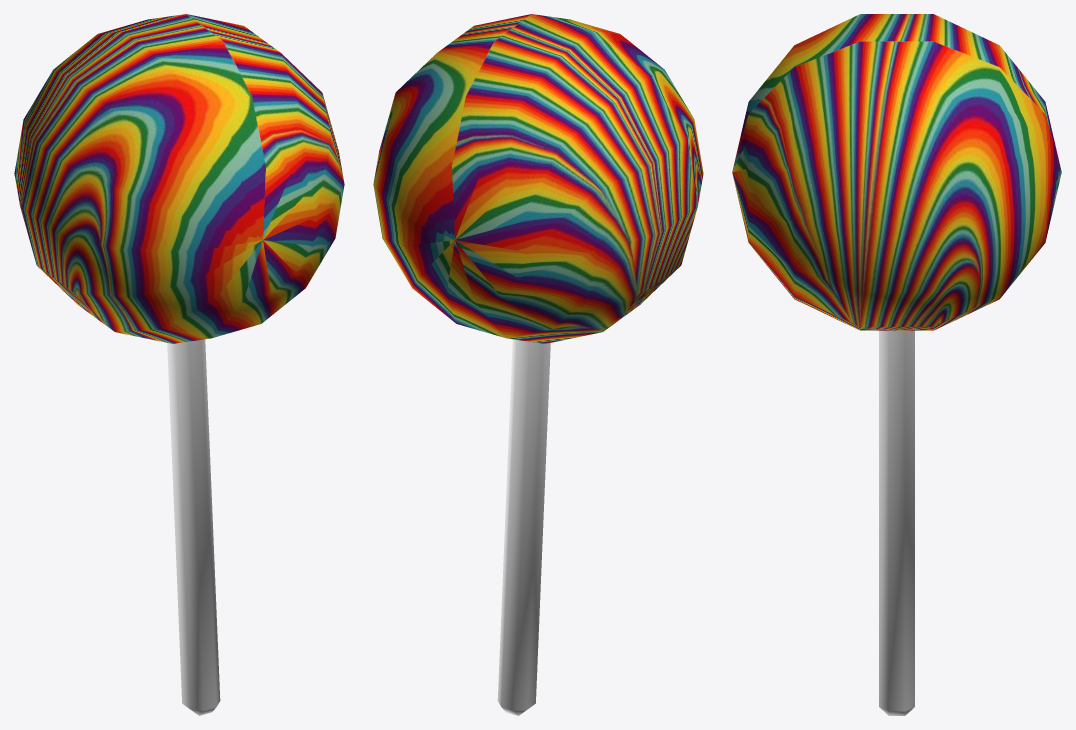
File: CANDIES04.FBX
3 renders of one model, left to right at view 1: azimuth 30°, elevation 25°; view 2: azimuth 150°, elevation 25°; view 3: azimuth 270°, elevation 25°, orthographic.
Parts seen in each view (by area): view 1: Sphere002; view 2: Sphere002; view 3: Sphere002.
Part boxes in pixels (x1=…): Sphere002: x1=14, y1=14, x2=344, y2=715; Sphere002: x1=373, y1=14, x2=703, y2=715; Sphere002: x1=732, y1=14, x2=1061, y2=715.
Size of the model in its own units: 490 by 1134 by 503.
2 materials, 1 textured.
